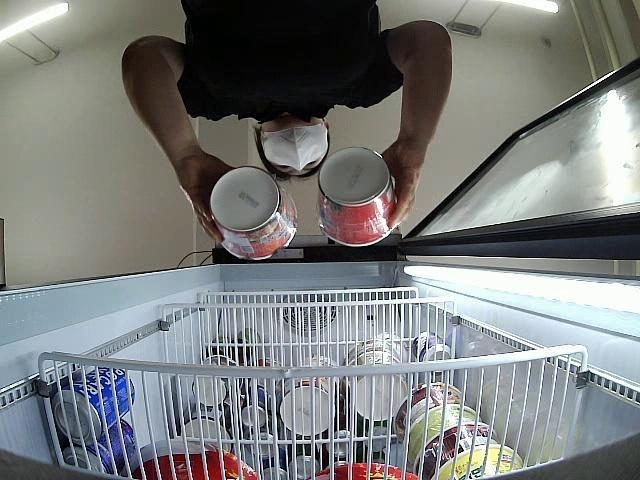01_ShinRamen_L: (316, 146, 401, 246), (208, 166, 298, 260)
